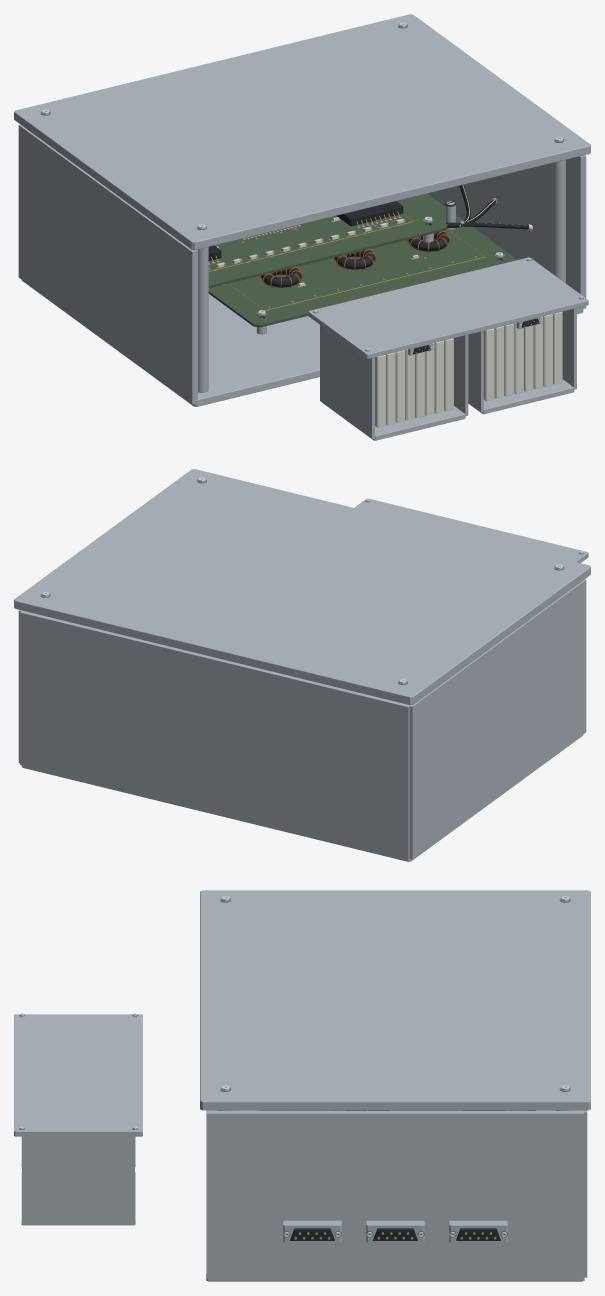
The model's file is mer-avionics.glb.
The picture shows the model from 3 angles, top to bottom: view 1: azimuth 30°, elevation 25°; view 2: azimuth 150°, elevation 25°; view 3: azimuth 270°, elevation 25°; orthographic projection. The views are drawn at different scales.
Visible parts, largest first — view 1: CHASSIS_COVER_Machined_aluminium, CHASSIS_Machined_aluminium, BATTERY_SERVICE_COVER_Machined_aluminium, POWER_BOARD_Epoxy_circuit_substrate, PROCESSOR_BOARD_Epoxy_circuit_substrate, LITHIUM_ION_MODULE_0_Machined_aluminium, LITHIUM_ION_MODULE_1_Machined_aluminium, PRISMATIC_CELL_0_White_thermal_coating (×2), PRISMATIC_CELL_2_White_thermal_coating (×2), POWER_BOARD_PASSIVES_Anodized_aluminium, PRISMATIC_CELL_1_White_thermal_coating (×2), PRISMATIC_CELL_6_White_thermal_coating (×2) (+6 smaller); view 2: CHASSIS_Machined_aluminium, CHASSIS_COVER_Machined_aluminium, BATTERY_SERVICE_COVER_Machined_aluminium; view 3: CHASSIS_COVER_Machined_aluminium, CHASSIS_Machined_aluminium, BATTERY_SERVICE_COVER_Machined_aluminium, LITHIUM_ION_MODULE_1_Machined_aluminium, CHASSIS_Anodized_aluminium.
Part boxes in pixels (x1,y1,x2,y2): CHASSIS_COVER_Machined_aluminium: (14, 14, 590, 250); CHASSIS_Machined_aluminium: (18, 124, 586, 406); BATTERY_SERVICE_COVER_Machined_aluminium: (308, 257, 588, 358); POWER_BOARD_Epoxy_circuit_substrate: (208, 193, 517, 327); PROCESSOR_BOARD_Epoxy_circuit_substrate: (208, 197, 447, 287); LITHIUM_ION_MODULE_0_Machined_aluminium: (320, 325, 468, 440); LITHIUM_ION_MODULE_1_Machined_aluminium: (468, 308, 576, 414); PRISMATIC_CELL_0_White_thermal_coating (×2): (375, 328, 494, 427); PRISMATIC_CELL_2_White_thermal_coating (×2): (395, 323, 514, 422); POWER_BOARD_PASSIVES_Anodized_aluminium: (261, 201, 456, 287); PRISMATIC_CELL_1_White_thermal_coating (×2): (386, 326, 504, 425); PRISMATIC_CELL_6_White_thermal_coating (×2): (434, 314, 552, 413); CHASSIS_Machined_aluminium: (18, 579, 586, 861); CHASSIS_COVER_Machined_aluminium: (14, 469, 590, 704); BATTERY_SERVICE_COVER_Machined_aluminium: (354, 498, 588, 562); CHASSIS_COVER_Machined_aluminium: (200, 890, 590, 1110); CHASSIS_Machined_aluminium: (206, 1110, 587, 1281); BATTERY_SERVICE_COVER_Machined_aluminium: (14, 1014, 142, 1136); LITHIUM_ION_MODULE_1_Machined_aluminium: (21, 1136, 135, 1225); CHASSIS_Anodized_aluminium: (286, 1228, 504, 1240).
Bounding box in the file's own units: 0.4216 × 0.1688 × 0.4741.
